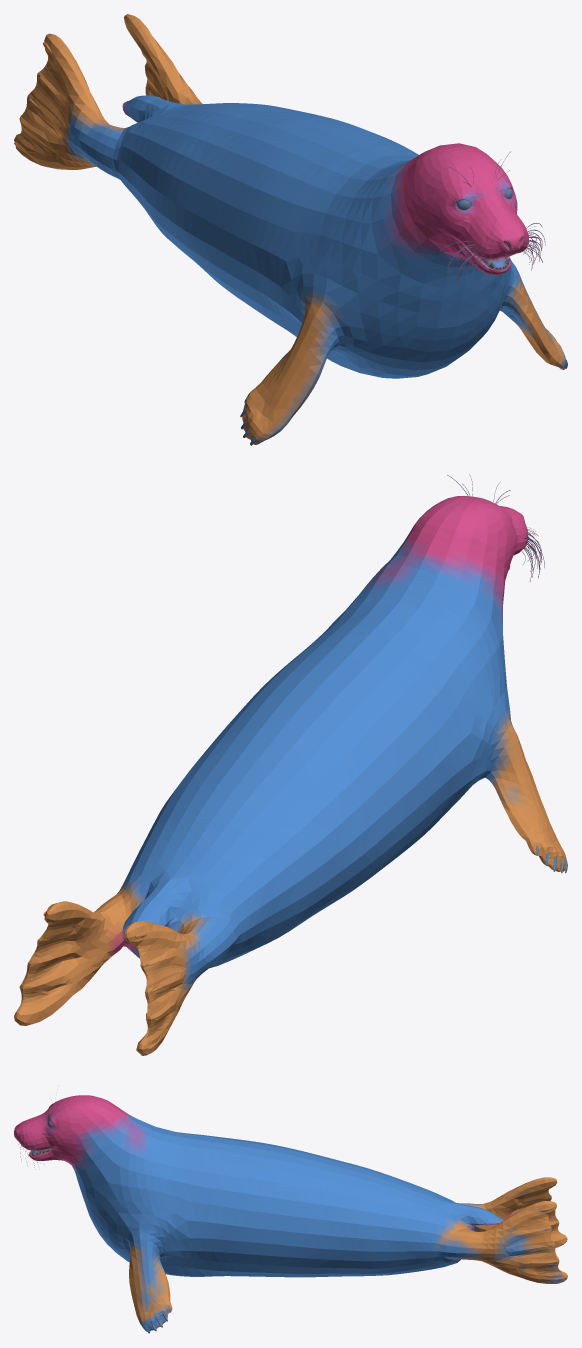
3 renders of one model, top to bottom at view 1: azimuth 30°, elevation 25°; view 2: azimuth 150°, elevation 25°; view 3: azimuth 270°, elevation 25°, orthographic. The views are drawn at different scales.
Visible parts, largest first — view 1: geometry_0.002; view 2: geometry_0.002; view 3: geometry_0.002.
Part boxes in pixels (bbox=[...]): geometry_0.002: bbox=[14, 14, 567, 445]; geometry_0.002: bbox=[14, 474, 567, 1055]; geometry_0.002: bbox=[14, 1095, 567, 1333].
Size of the model in its own units: 1.77 by 1.6 by 4.2.
